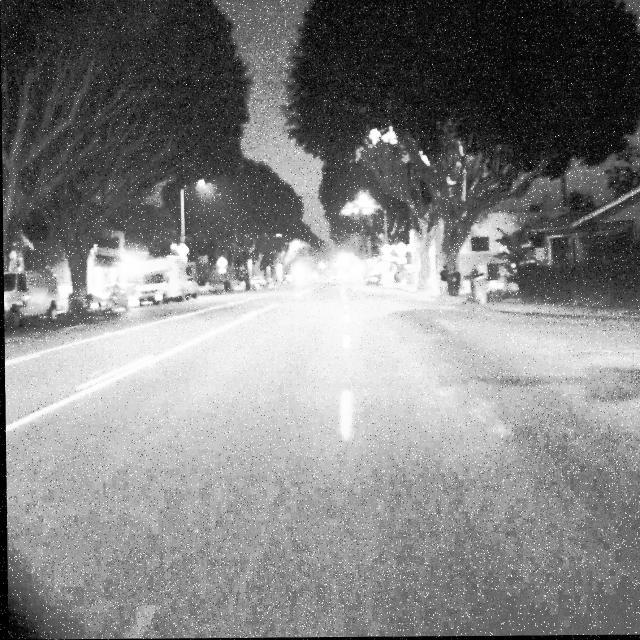Truck: (136, 256, 188, 305)
